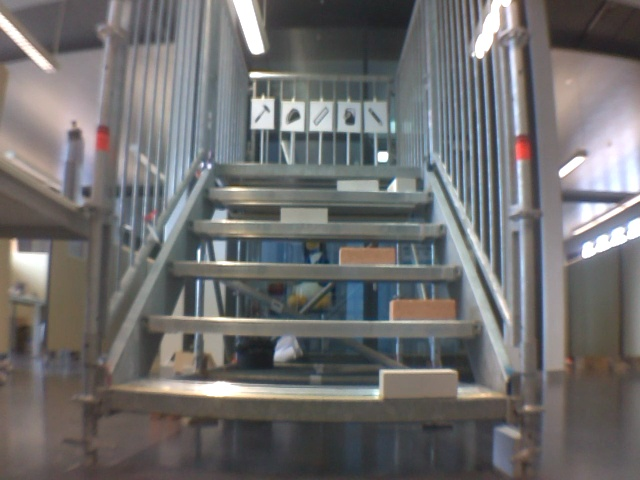brick: (378, 370, 457, 397), (390, 299, 455, 321), (340, 248, 394, 265), (280, 208, 327, 223), (338, 180, 377, 191), (389, 177, 416, 192)
bucket: (341, 105, 357, 126)
edge: (107, 390, 508, 419), (142, 316, 481, 337), (167, 261, 462, 280), (186, 221, 448, 237), (202, 188, 433, 202), (215, 164, 419, 177)
hammer: (253, 102, 272, 125)
pencil: (365, 107, 386, 127)
ruler: (310, 104, 329, 129)
stairs: (81, 4, 544, 476)
steps: (99, 159, 511, 427)
taco: (281, 105, 301, 126)
